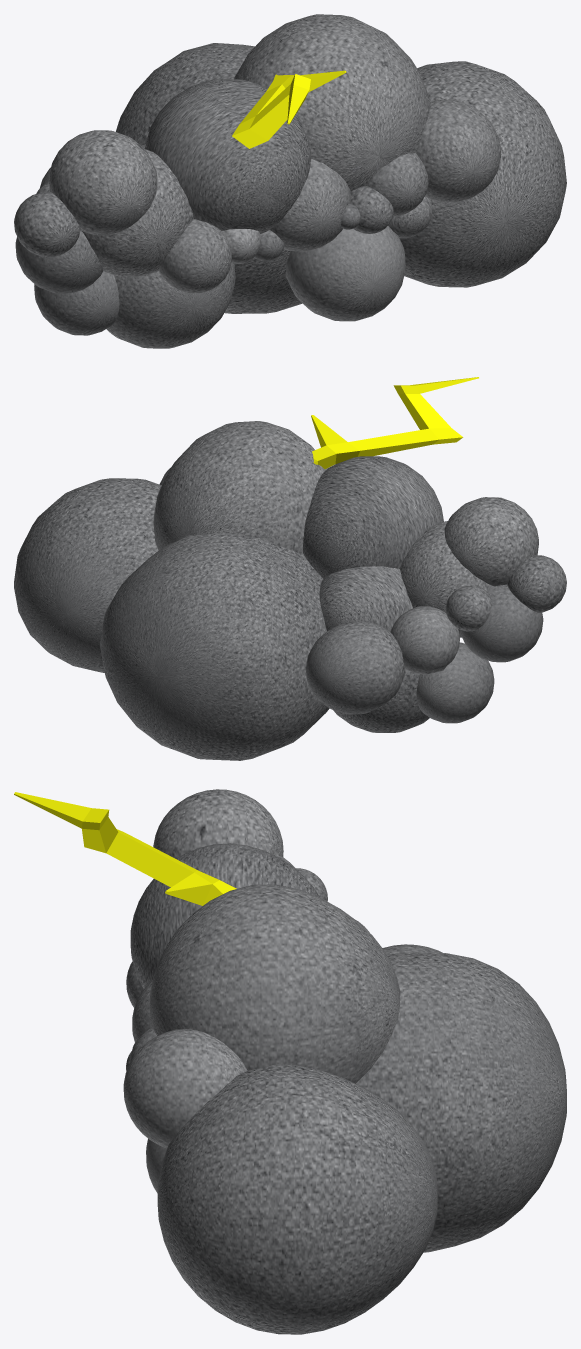
The model's file is Storm_Cloud.glb.
The picture shows the model from 3 angles, top to bottom: view 1: azimuth 30°, elevation 25°; view 2: azimuth 150°, elevation 25°; view 3: azimuth 270°, elevation 25°; orthographic projection. The views are drawn at different scales.
Parts seen in each view (by area): view 1: Lightening_Bolt, Lightening_Bolt.001; view 2: Lightening_Bolt, Lightening_Bolt.001; view 3: Lightening_Bolt, Lightening_Bolt.001.
Part boxes in pixels (left/top/right/bottom): Lightening_Bolt: left=14, top=14, right=566, bottom=348; Lightening_Bolt.001: left=232, top=70, right=346, bottom=148; Lightening_Bolt: left=14, top=421, right=566, bottom=760; Lightening_Bolt.001: left=311, top=377, right=478, bottom=469; Lightening_Bolt: left=123, top=789, right=566, bottom=1334; Lightening_Bolt.001: left=14, top=792, right=236, bottom=905.
Size of the model in its own units: 0.1403 by 0.079 by 0.101.
Materials: 2 (1 with a texture image).
